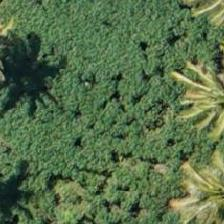coconut_tree: (176, 149, 223, 223)
